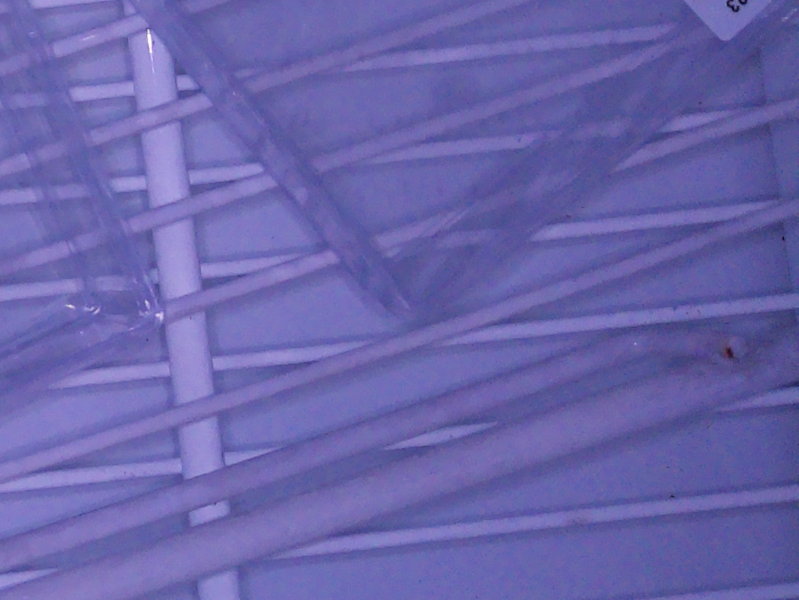plate: (133, 1, 799, 326), (1, 1, 166, 412)
